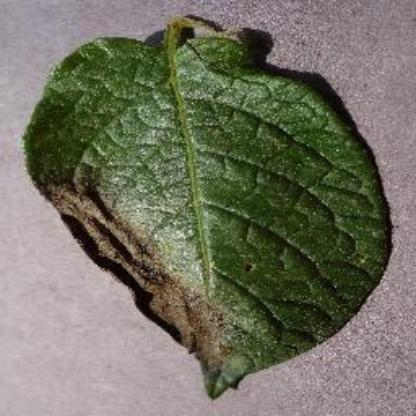Late-Blight: (22, 19, 396, 414)
